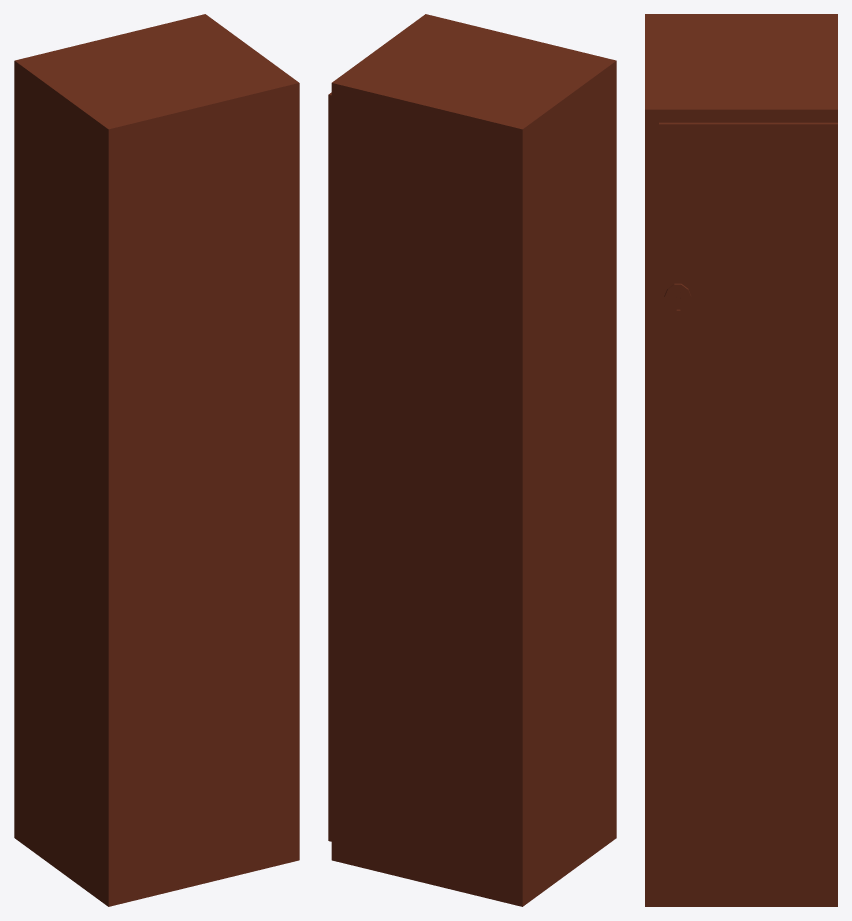
The model's file is lemari.fbx.
3 renders of one model, left to right at view 1: azimuth 30°, elevation 25°; view 2: azimuth 150°, elevation 25°; view 3: azimuth 270°, elevation 25°, orthographic. The views are drawn at different scales.
Parts seen in each view (by area): view 1: Cube.003; view 2: Cube.003, Cube.014, Cube.015; view 3: Cube.014, Cube.015, Cube.003.
Boxes of the visible parts, bbox=[...] form: Cube.003: bbox=[14, 14, 299, 906]; Cube.003: bbox=[331, 14, 616, 906]; Cube.014: bbox=[328, 92, 343, 550]; Cube.015: bbox=[328, 547, 343, 844]; Cube.014: bbox=[659, 122, 837, 588]; Cube.015: bbox=[659, 588, 837, 889]; Cube.003: bbox=[645, 14, 837, 906].
Size of the model in its own units: 48.96 by 185 by 40.57.
